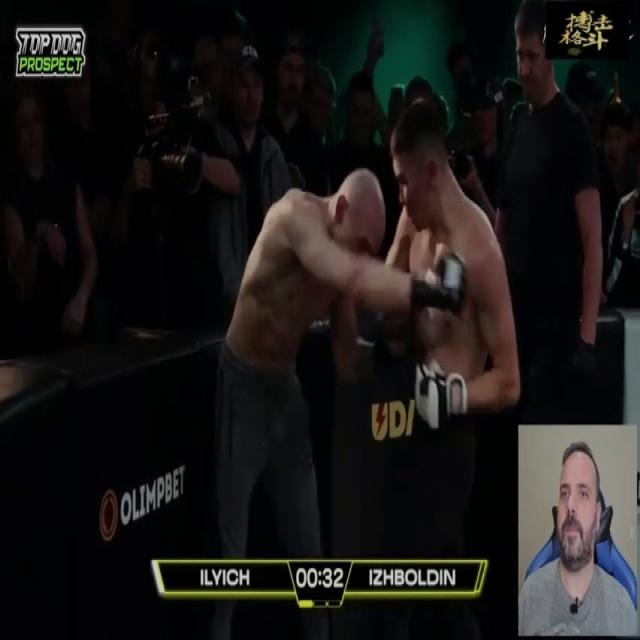fight: (200, 72, 523, 640)
